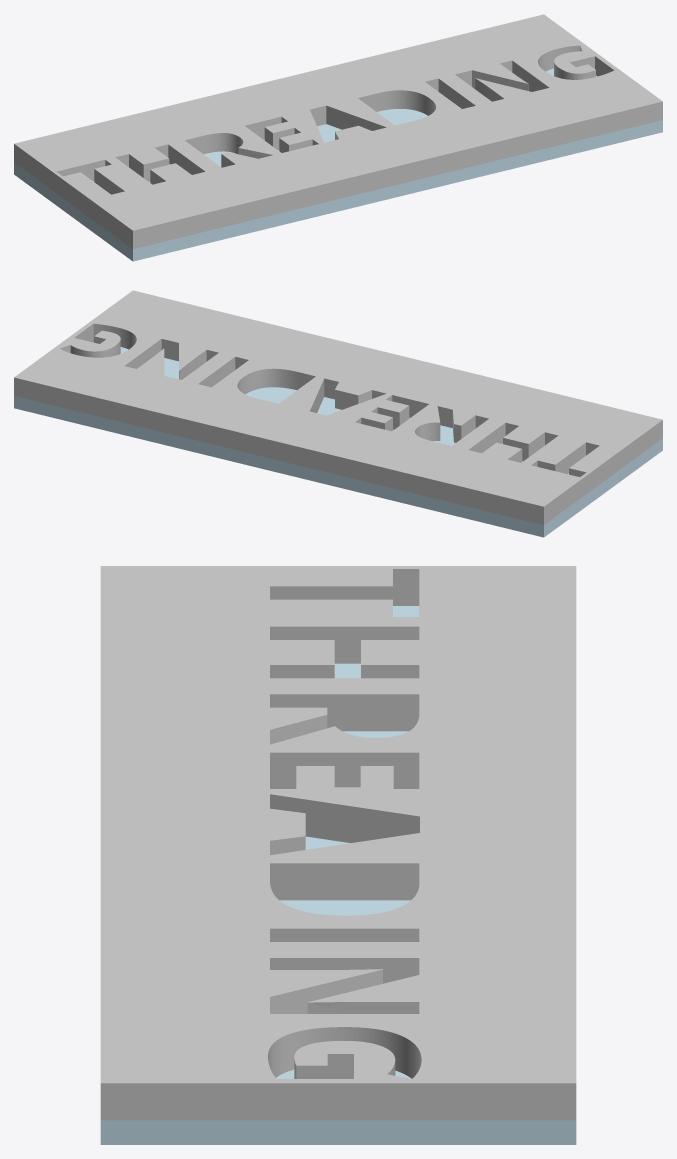
The model's file is Thread.fbx.
The picture shows the model from 3 angles, top to bottom: view 1: azimuth 30°, elevation 25°; view 2: azimuth 150°, elevation 25°; view 3: azimuth 270°, elevation 25°; orthographic projection. The views are drawn at different scales.
Parts seen in each view (by area): view 1: imagetostl_mesh0, imagetostl_mesh1; view 2: imagetostl_mesh0, imagetostl_mesh1; view 3: imagetostl_mesh0, imagetostl_mesh1.
Boxes of the visible parts, x1,y1,x2,y2 form: imagetostl_mesh0: (14, 14, 662, 249); imagetostl_mesh1: (14, 68, 662, 261); imagetostl_mesh0: (14, 290, 662, 525); imagetostl_mesh1: (14, 342, 662, 537); imagetostl_mesh0: (100, 566, 576, 1120); imagetostl_mesh1: (100, 606, 576, 1144).
Size of the model in its own units: 9000 by 500 by 3500.
